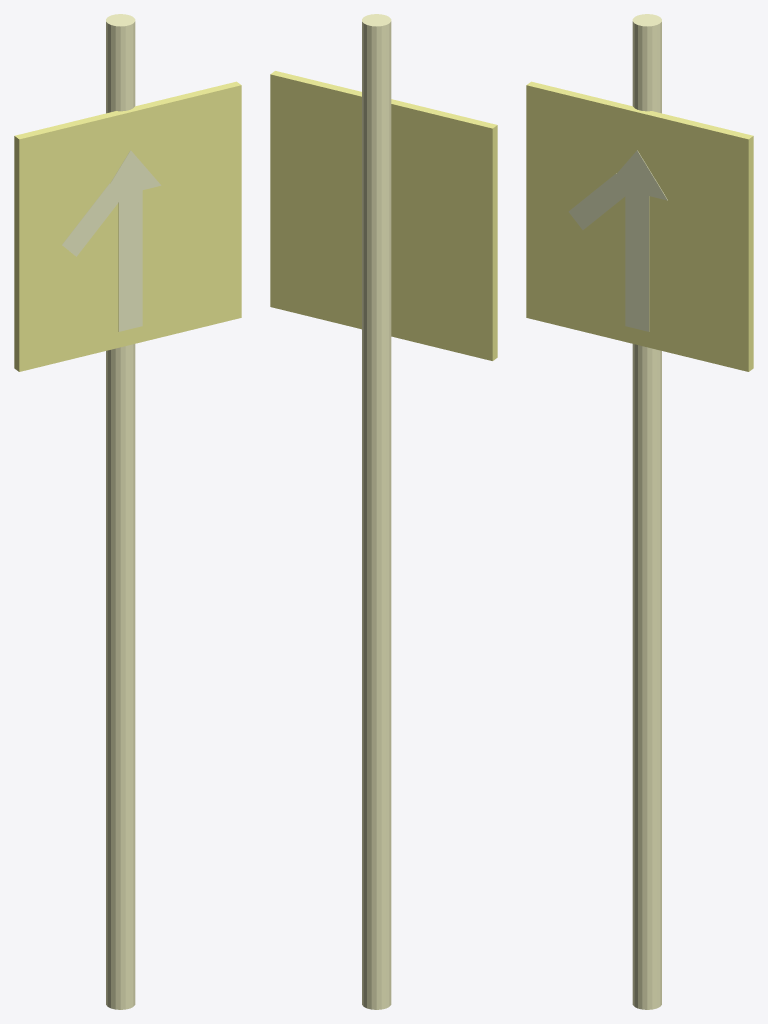
File: sign_merge.glb
3 renders of one model, left to right at view 1: azimuth 30°, elevation 25°; view 2: azimuth 150°, elevation 25°; view 3: azimuth 330°, elevation 25°, orthographic.
Visible parts, largest first — view 1: plate_base_00, pole, layer_1_00, layer_1_02, layer_1_01; view 2: plate_base_00, pole; view 3: plate_base_00, pole, layer_1_00, layer_1_01, layer_1_02.
Part boxes in pixels (x1,y1,x2,y2): plate_base_00: (14,81,241,371); pole: (106,14,135,1009); layer_1_00: (118,190,142,331); layer_1_02: (62,183,121,256); layer_1_01: (100,150,161,200); plate_base_00: (270,71,497,360); pole: (362,14,391,1009); plate_base_00: (526,81,753,371); pole: (632,14,661,1009); layer_1_00: (625,190,649,331); layer_1_01: (606,150,667,200); layer_1_02: (568,173,629,229).
Bounding box in the file's own units: 0.5204 × 2.2 × 0.071.
